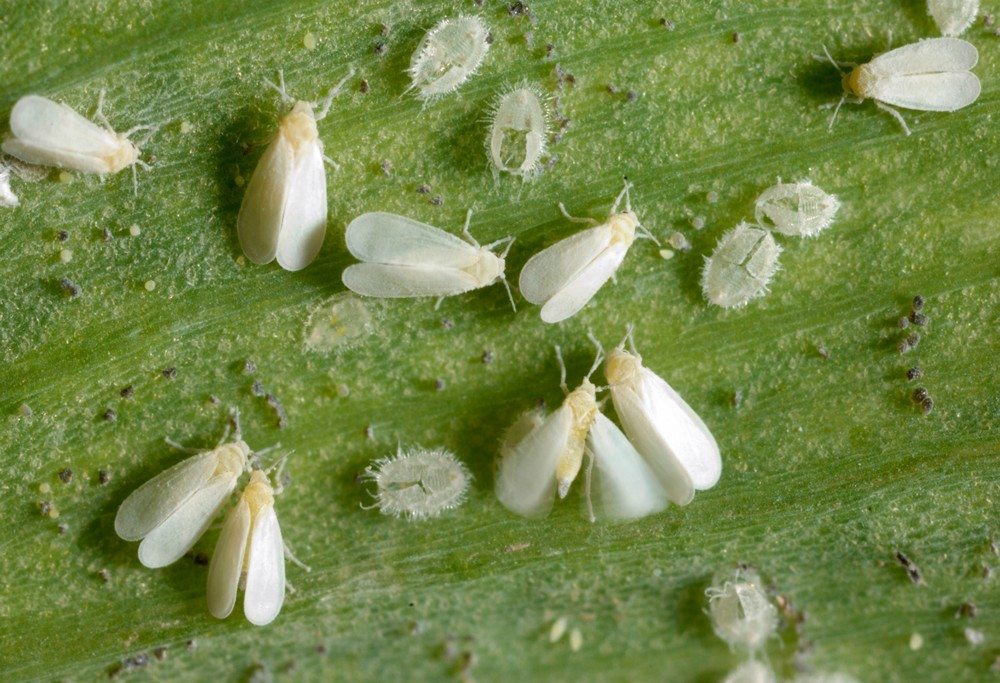Mosca Blanca: (491, 335, 654, 524), (226, 62, 355, 281), (590, 321, 737, 512), (102, 402, 260, 573), (5, 77, 194, 218), (342, 188, 522, 335), (798, 23, 988, 147), (514, 180, 662, 328), (208, 457, 321, 631)
